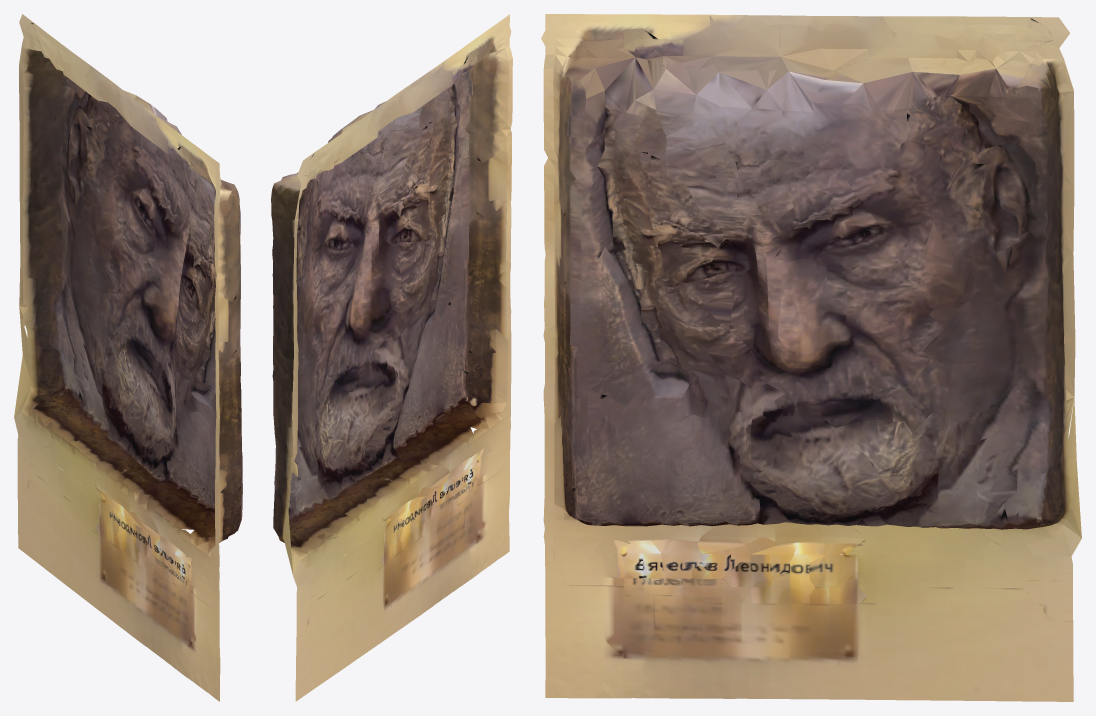
Rendered from glaz.glb.
3 renders of one model, left to right at view 1: azimuth 30°, elevation 25°; view 2: azimuth 150°, elevation 25°; view 3: azimuth 270°, elevation 25°, orthographic. The views are drawn at different scales.
Visible parts, largest first — view 1: Mesh_0; view 2: Mesh_0; view 3: Mesh_0.
Part boxes in pixels (x1=…): Mesh_0: x1=14, y1=14, x2=242, y2=701; Mesh_0: x1=271, y1=14, x2=512, y2=701; Mesh_0: x1=541, y1=14, x2=1081, y2=701.
Size of the model in its own units: 0.1095 by 0.935 by 0.6705.
1 material, 1 textured.
